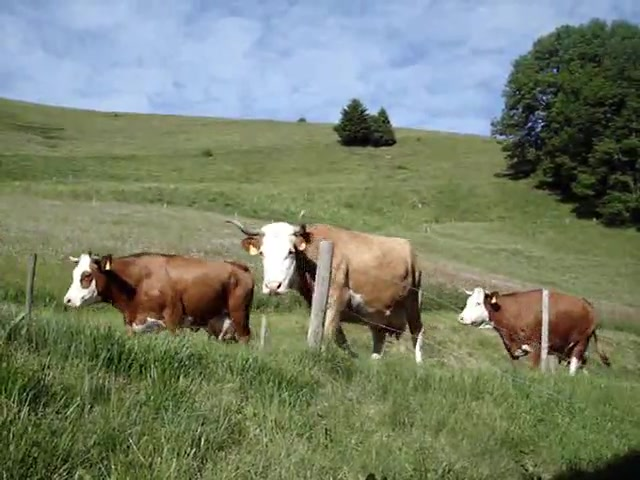cow: (64, 251, 257, 347)
